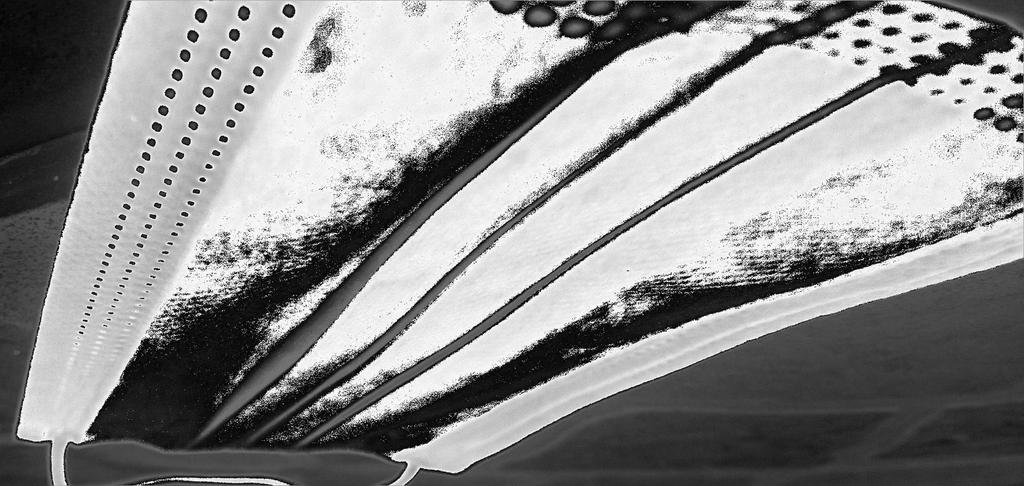High GSM: (327, 2, 1003, 282)
